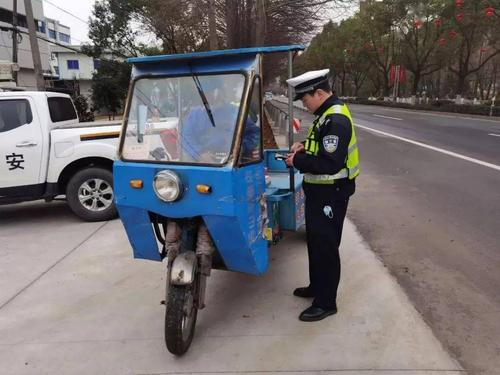driver: (172, 70, 296, 233)
only_driver: (96, 29, 304, 317)
